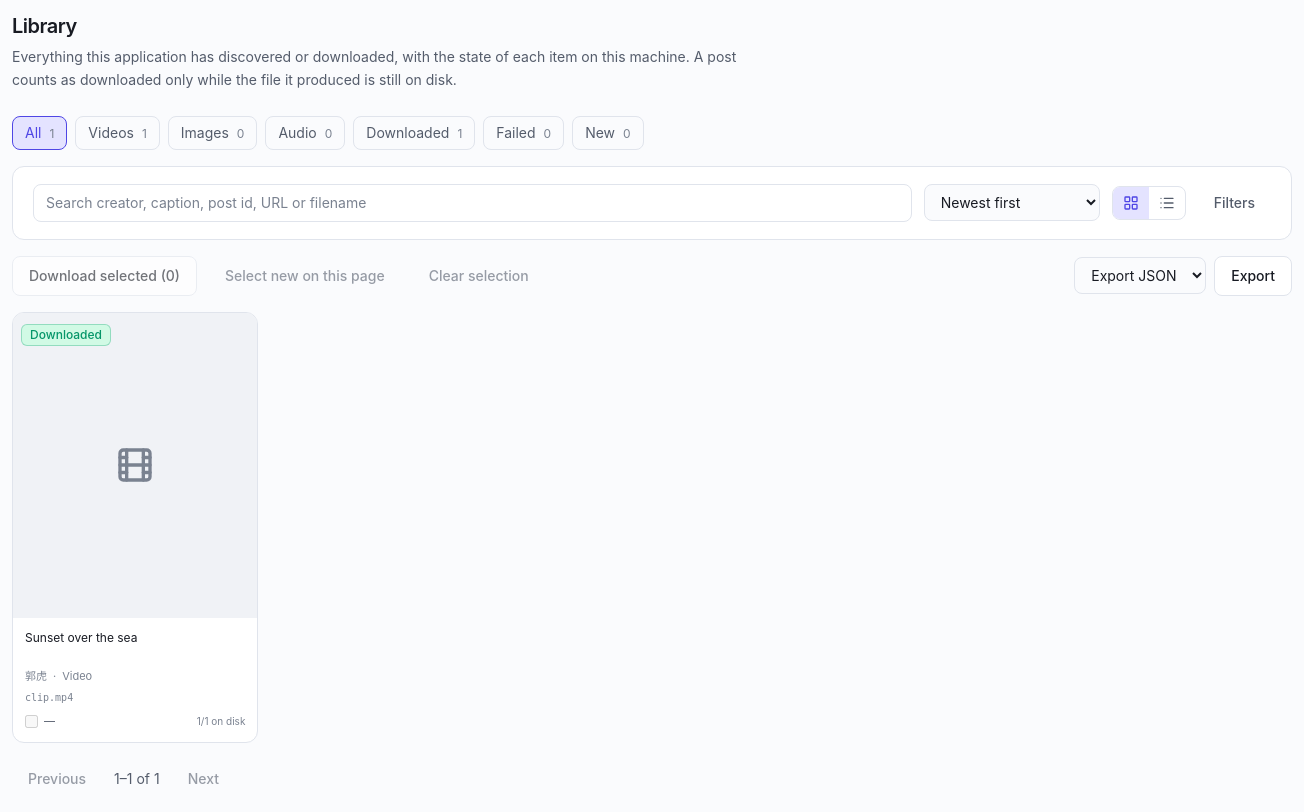
Scenario: still shows the row the way it did before: name, type, size, duration, file
Click the button named "Show as a detailed list" at (1167, 202), box [1149,186,1185,218]
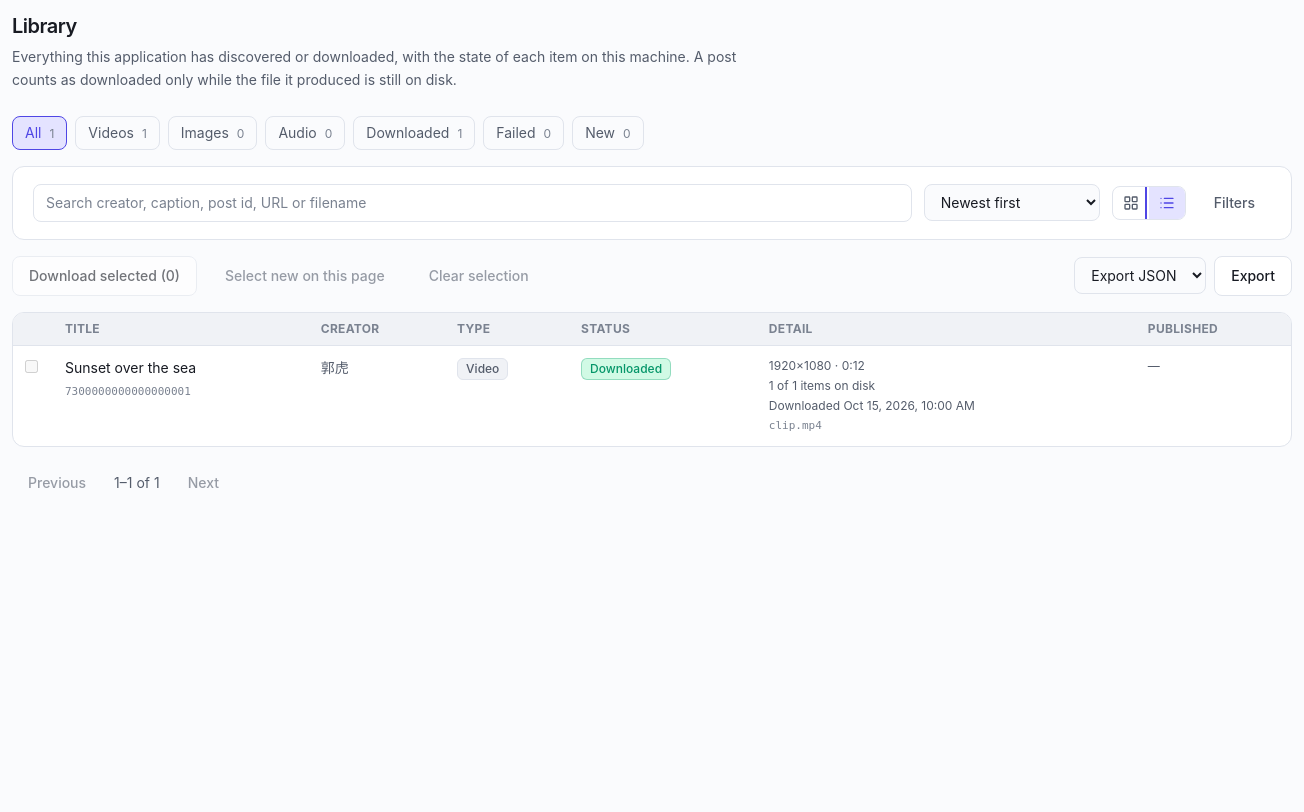
Check: the text "7300000000000000001" is shown, box [65,384,191,398]
Check: the text "1920×1080 · 0:12" is shown, box [769,358,865,372]
Check: the text "1 of 1 items on disk" is shown, box [769,378,875,392]
